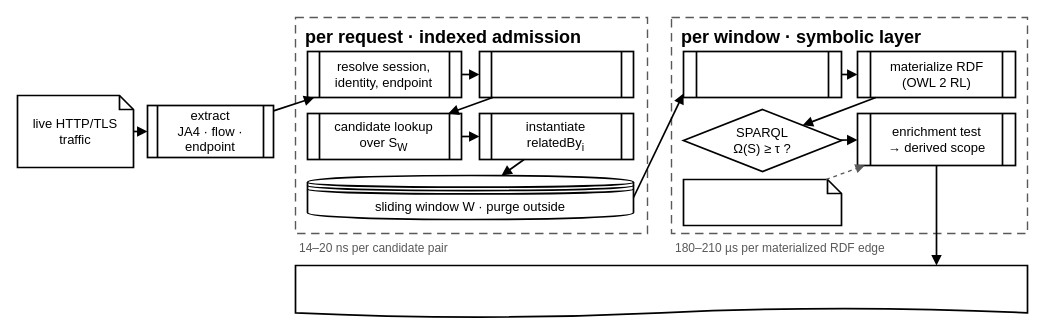
Some shapes in this 1046 by 336 pixel diagram are drawn without their labels. The centre of each missing label's shape, as x and y in pixels:
background profile (attack-free): [762,202]
cluster by endpoint → candidate S: [762,74]
evidence chain — JSON-LD / STIX 2.1 · CourseOfAction carrying the derived scope: [661,291]
link hasIdentity, targets: [556,74]
